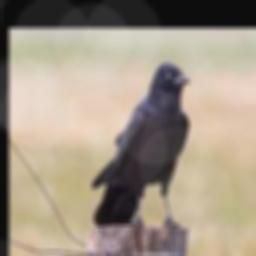Crow: (92, 62, 192, 226)
